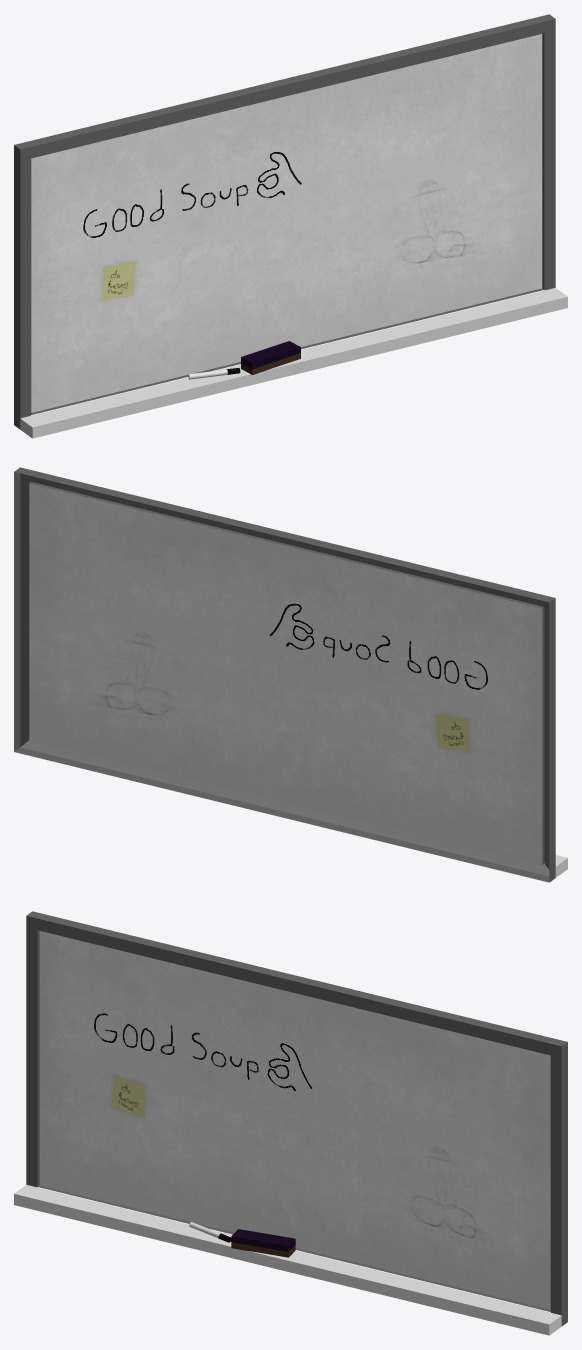
The model's file is WhiteBoard.fbx.
3 renders of one model, top to bottom at view 1: azimuth 30°, elevation 25°; view 2: azimuth 150°, elevation 25°; view 3: azimuth 330°, elevation 25°, orthographic.
Visible parts, largest first — view 1: Cube.008, Cube.009, Eraser; view 2: Cube.008, Cube.009; view 3: Cube.008, Cube.009, Eraser.
Part boxes in pixels (x1=…): Cube.008: x1=14, y1=14, x2=555, y2=429; Cube.009: x1=20, y1=288, x2=567, y2=438; Eraser: x1=241, y1=341, x2=300, y2=374; Cube.008: x1=14, y1=467, x2=555, y2=882; Cube.009: x1=20, y1=740, x2=567, y2=877; Cube.008: x1=26, y1=911, x2=567, y2=1326; Cube.009: x1=14, y1=1185, x2=561, y2=1335; Eraser: x1=231, y1=1229, x2=295, y2=1257.
Size of the model in its own units: 198 by 98.96 by 12.67.
